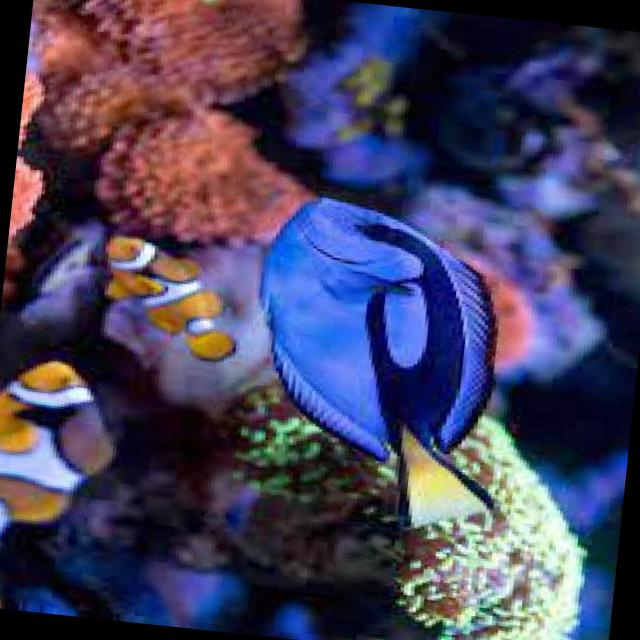ClownFish: (0, 347, 131, 563), (91, 230, 262, 374)
